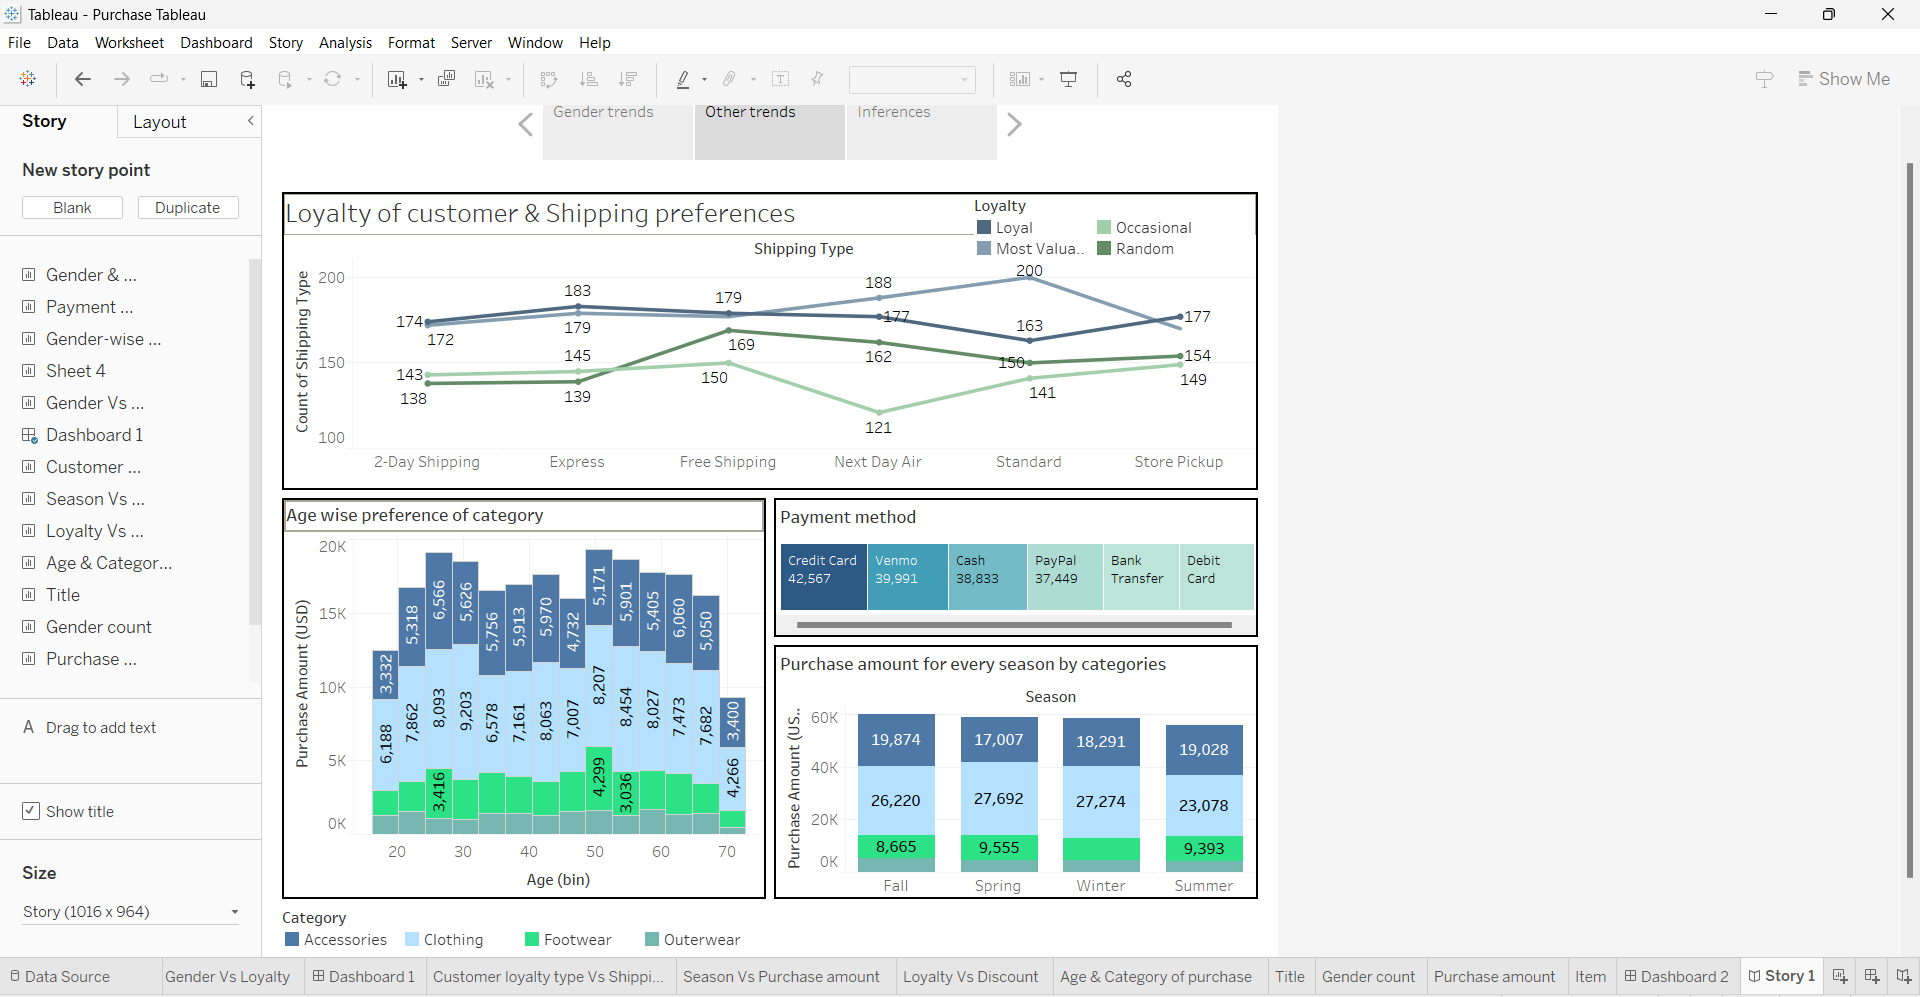

This screenshot's page, from the dashboard's own definition file:
{"tool":"tableau","page":{"name":"Dashboard 2","canvas":[1000,800],"ordinal":1},"visuals":[{"type":"worksheet","title":"Customer loyalty type Vs Shipping type","mark":"Line","rows":["Shipping Type"],"cols":["Shipping Type"],"box":[8,8,984,306.3]},{"type":"legend","title":"Customer loyalty type Vs Shipping type","param":"[federated.0tuz9aq1jhpqn216y1nxh00i6q0u].[none:Calculation_2396759439438475264:n","box":[704,15,281,68]},{"type":"worksheet","title":"Age & Category of purchase","mark":"Automatic","rows":["Purchase Amount (USD)"],"cols":["Age (bin)"],"box":[8,314.3,492,408.7]},{"type":"worksheet","title":"Payment method vs Purchase method","mark":"Automatic","box":[500,314.3,492,146.7]},{"type":"worksheet","title":"Season Vs Purchase amount","mark":"Automatic","rows":["Purchase Amount (USD)"],"cols":["Season"],"box":[500,461,492,262]},{"type":"legend","title":"Season Vs Purchase amount","param":"[federated.0tuz9aq1jhpqn216y1nxh00i6q0u].[none:Category:nk]","box":[8,723,984,51]}]}

Visuals, with their boxes on the page's 1000x800 design canvas (x1, y1, x2, y2). These are canvas units, not pixel positions in the 1920x997 screenshot, which may show the page scaled, cropped or inside an application window:
"Customer loyalty type Vs Shipping type" worksheet (Line marks): x1=8 y1=8 x2=992 y2=314
"Customer loyalty type Vs Shipping type" legend: x1=704 y1=15 x2=985 y2=83
"Age & Category of purchase" worksheet: x1=8 y1=314 x2=500 y2=723
"Payment method vs Purchase method" worksheet: x1=500 y1=314 x2=992 y2=461
"Season Vs Purchase amount" worksheet: x1=500 y1=461 x2=992 y2=723
"Season Vs Purchase amount" legend: x1=8 y1=723 x2=992 y2=774
